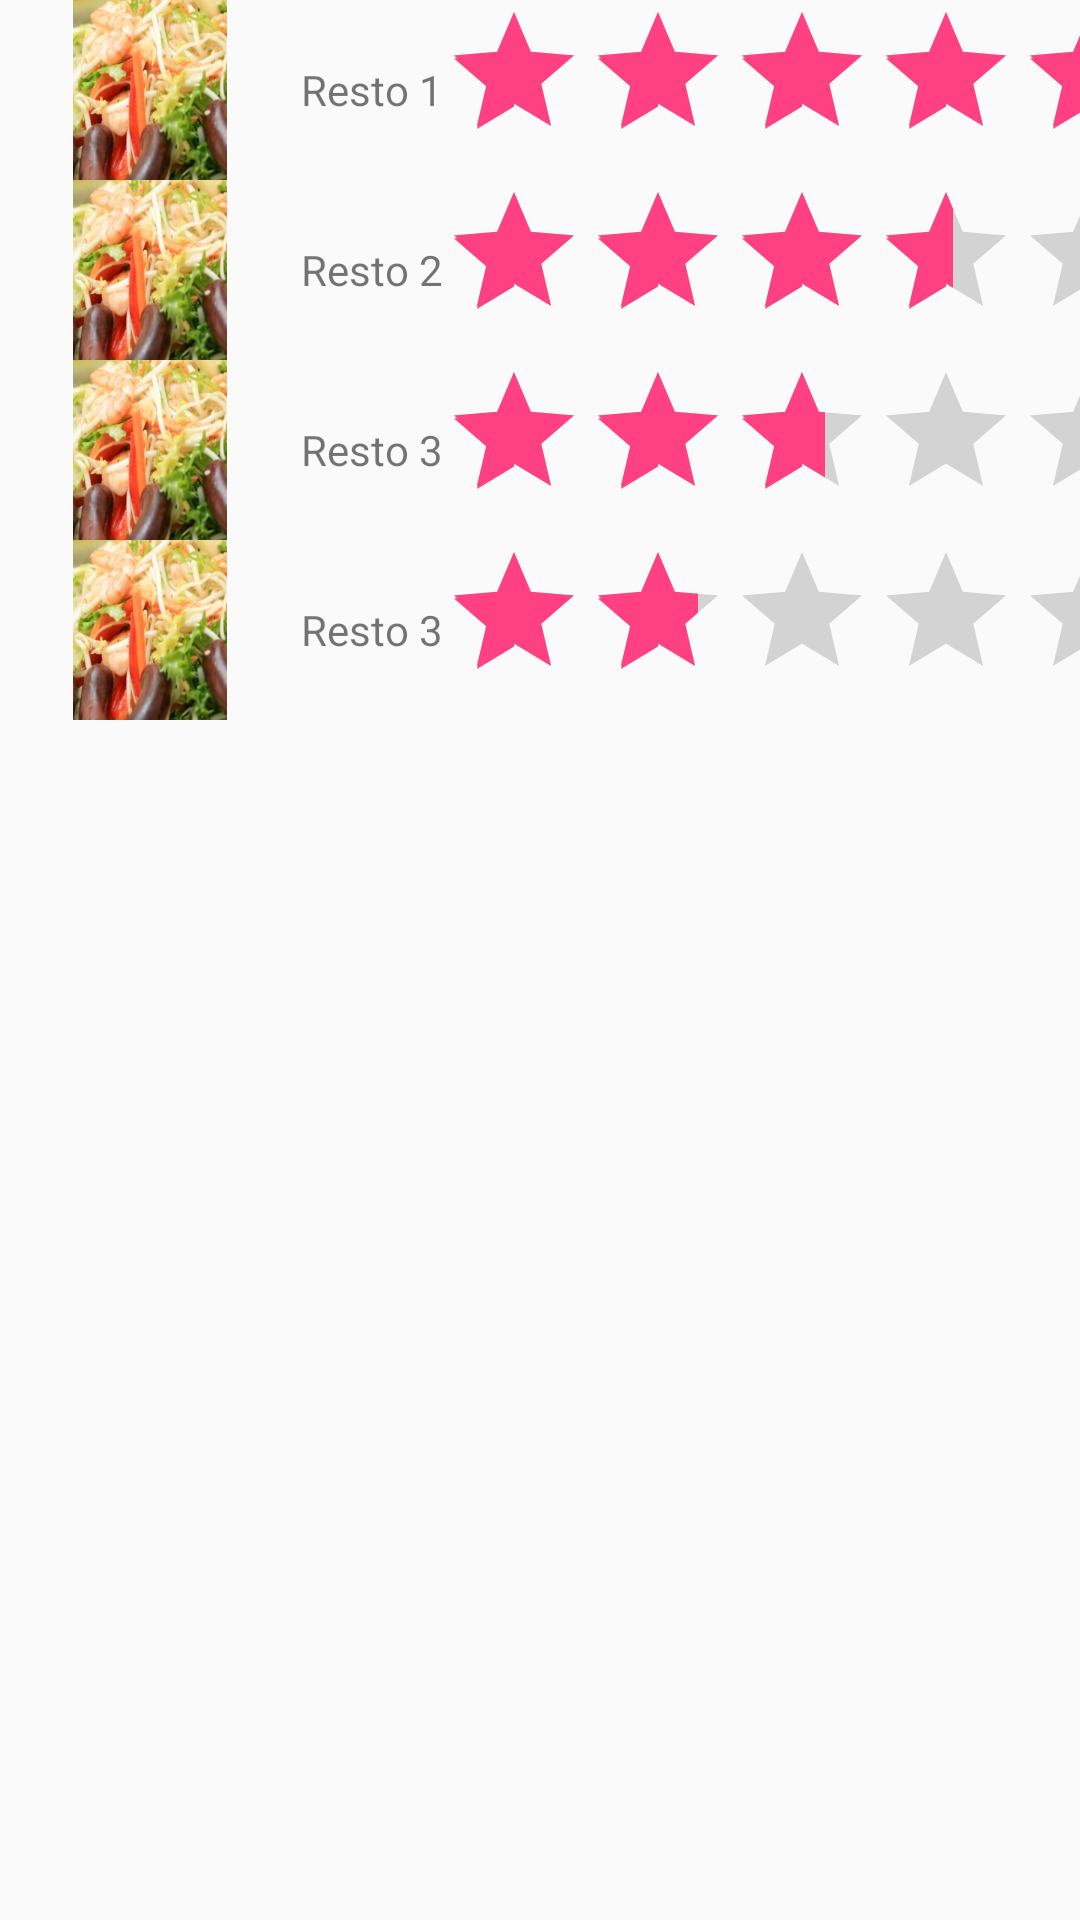

Named icons in this screenshot (1080×1920) and their bounding boxes, box=[x1, y1, x2, y2]:
manger: box=[73, 0, 227, 180], box=[73, 180, 227, 360], box=[73, 360, 227, 540], box=[73, 540, 227, 720]
